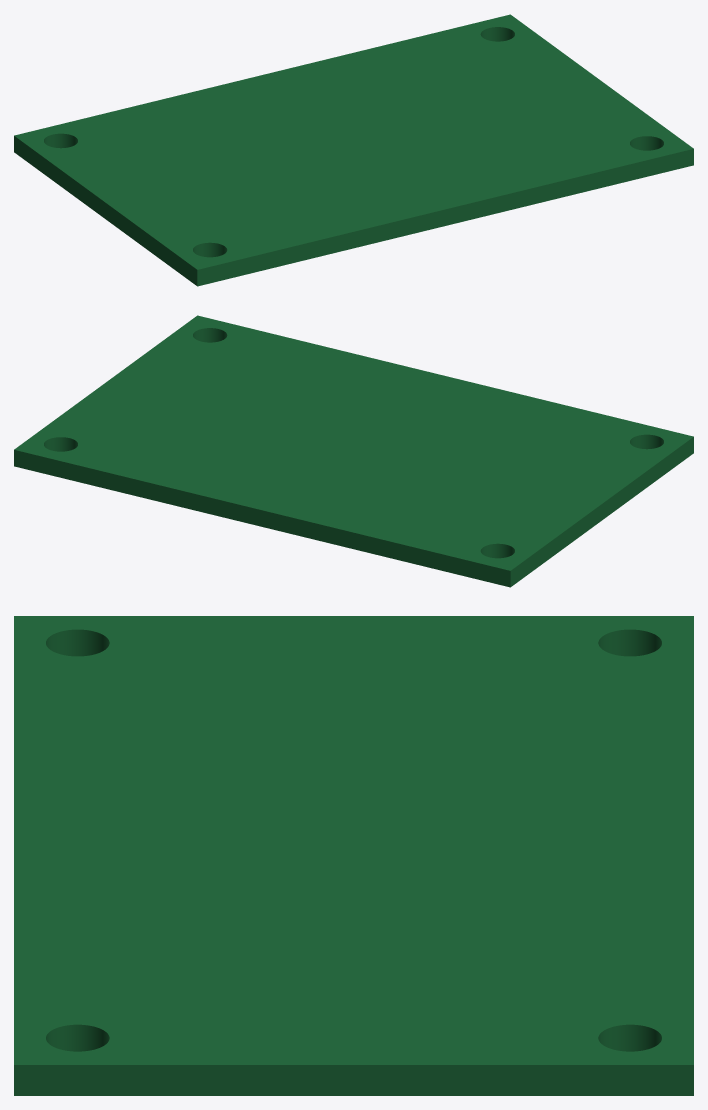
The model's file is max7219-matrix-8x8.glb.
The picture shows the model from 3 angles, top to bottom: view 1: azimuth 30°, elevation 25°; view 2: azimuth 150°, elevation 25°; view 3: azimuth 270°, elevation 25°; orthographic projection. The views are drawn at different scales.
Size of the model in its own units: 0.05 by 0.0016 by 0.032.
